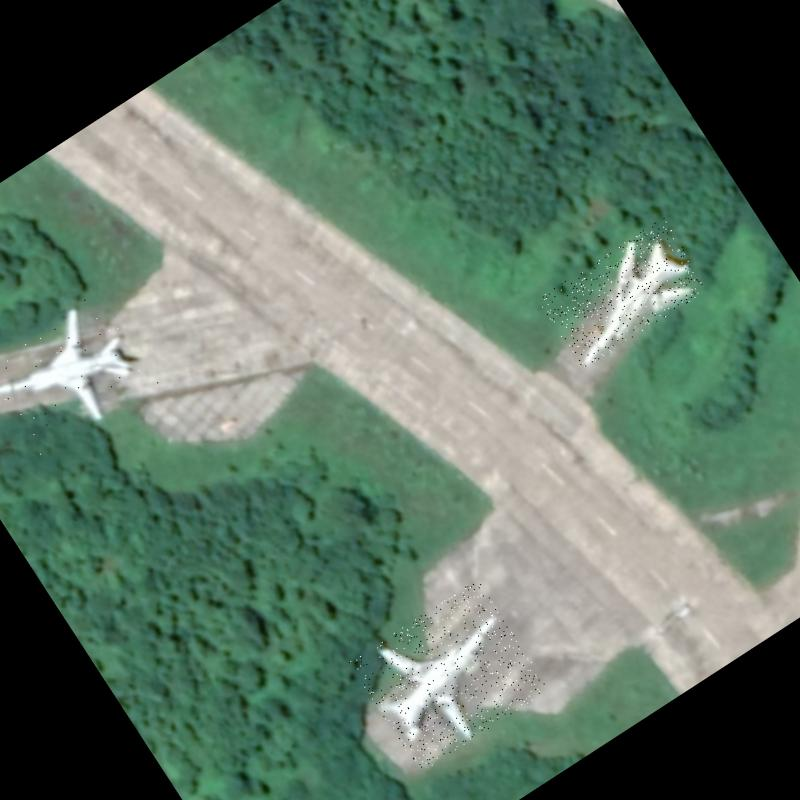A12: (349, 578, 550, 773), (0, 286, 160, 465), (537, 216, 710, 370)
